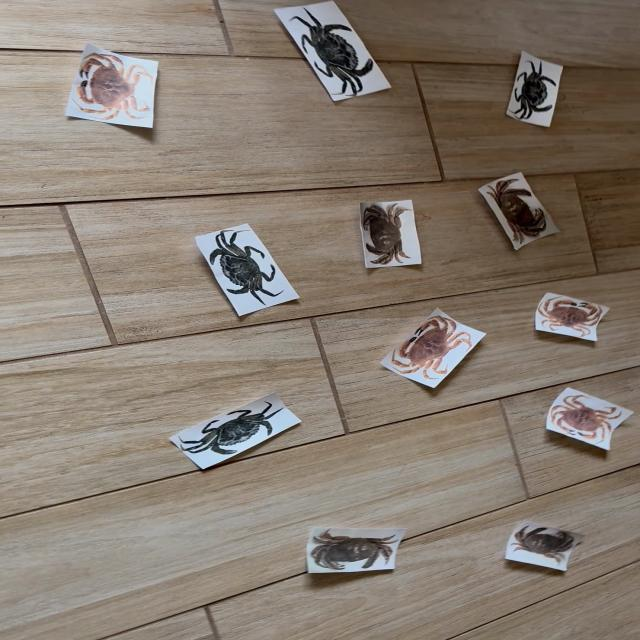egc: (276, 2, 389, 101), (170, 393, 299, 469), (196, 224, 297, 316), (508, 53, 559, 126)
